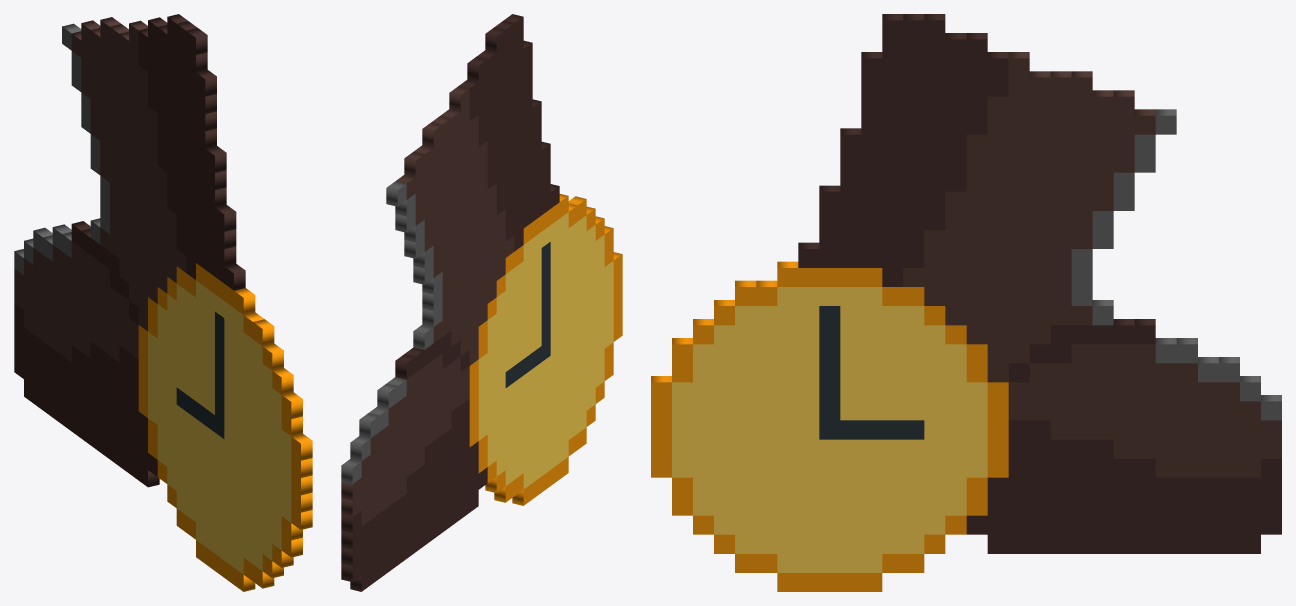
The model's file is DashCooldown.fbx.
3 renders of one model, left to right at view 1: azimuth 30°, elevation 25°; view 2: azimuth 150°, elevation 25°; view 3: azimuth 270°, elevation 25°, orthographic. The views are drawn at different scales.
Visible parts, largest first — view 1: Curve.001; view 2: Curve.001; view 3: Curve.001.
Part boxes in pixels (x1=…): Curve.001: x1=14, y1=14, x2=312, y2=591; Curve.001: x1=341, y1=14, x2=622, y2=591; Curve.001: x1=651, y1=14, x2=1281, y2=591.
Size of the model in its own units: 2 by 84.65 by 84.67.
